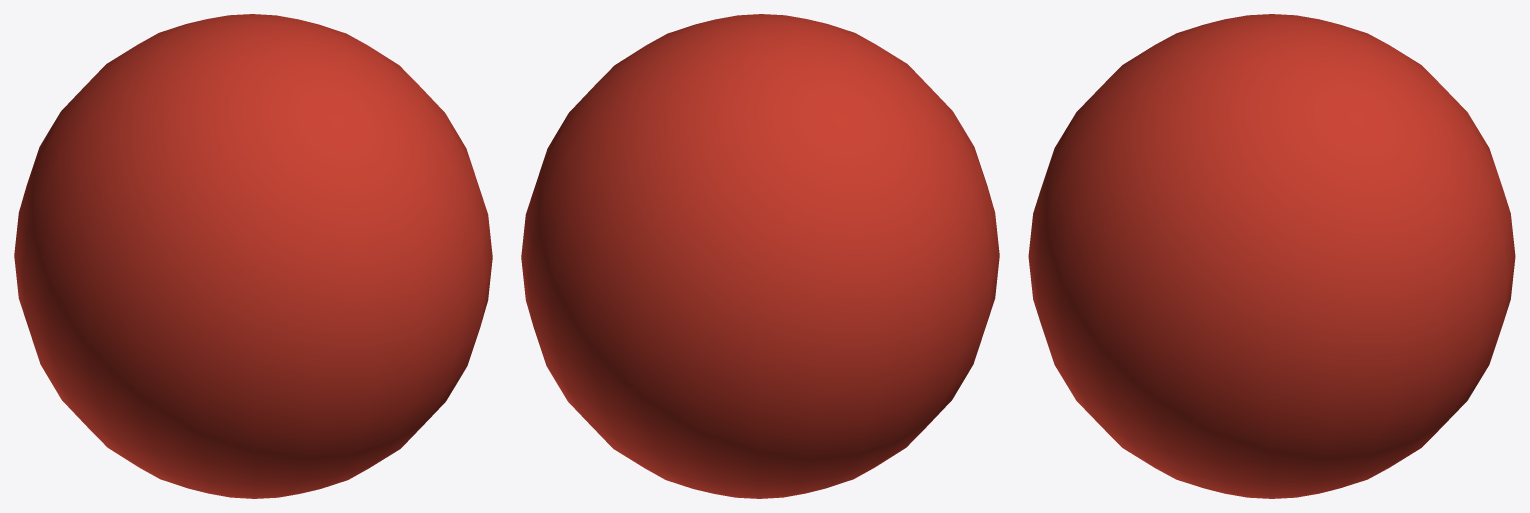
Rendered from SM_EG_Fruit_apple_Plain_beb82bdf03.fbx.
The picture shows the model from 3 angles, left to right: view 1: azimuth 30°, elevation 25°; view 2: azimuth 150°, elevation 25°; view 3: azimuth 270°, elevation 25°; orthographic projection.
Parts seen in each view (by area): view 1: SM_EG_Fruit_apple_Plain_beb82bdf03; view 2: SM_EG_Fruit_apple_Plain_beb82bdf03; view 3: SM_EG_Fruit_apple_Plain_beb82bdf03.
Boxes of the visible parts, x1=… form: SM_EG_Fruit_apple_Plain_beb82bdf03: x1=14, y1=14, x2=492, y2=498; SM_EG_Fruit_apple_Plain_beb82bdf03: x1=521, y1=14, x2=999, y2=498; SM_EG_Fruit_apple_Plain_beb82bdf03: x1=1028, y1=14, x2=1515, y2=498.
Size of what is drawn, in the model's own units: 19.6 by 20 by 20.
